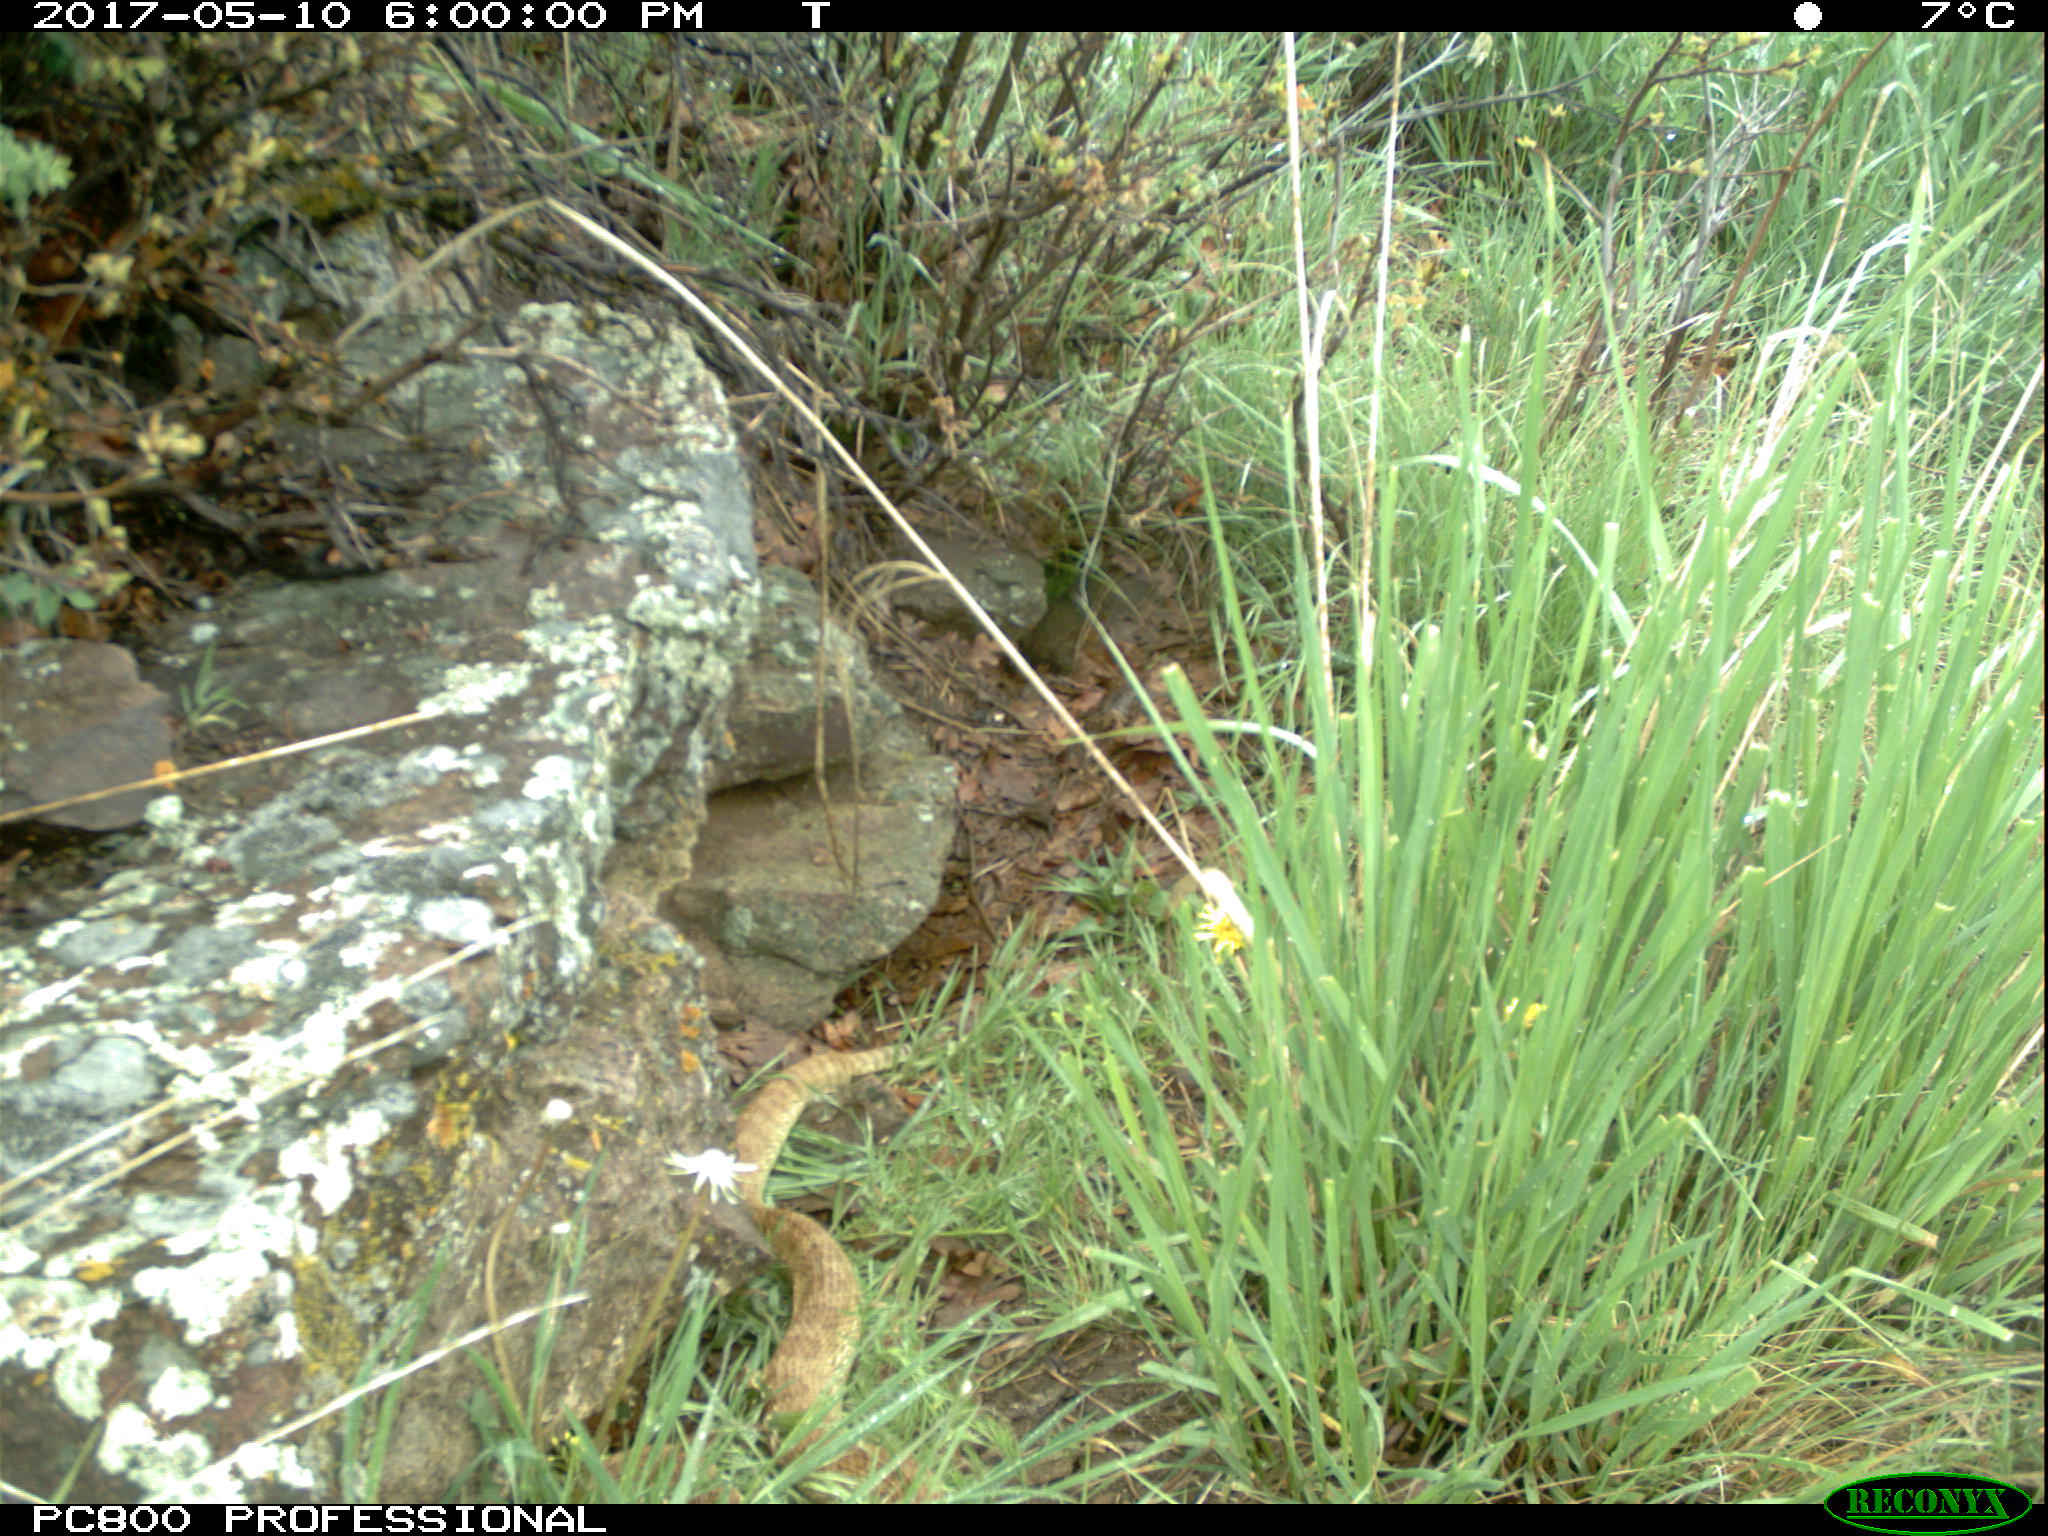snake: (722, 1042, 958, 1501)
